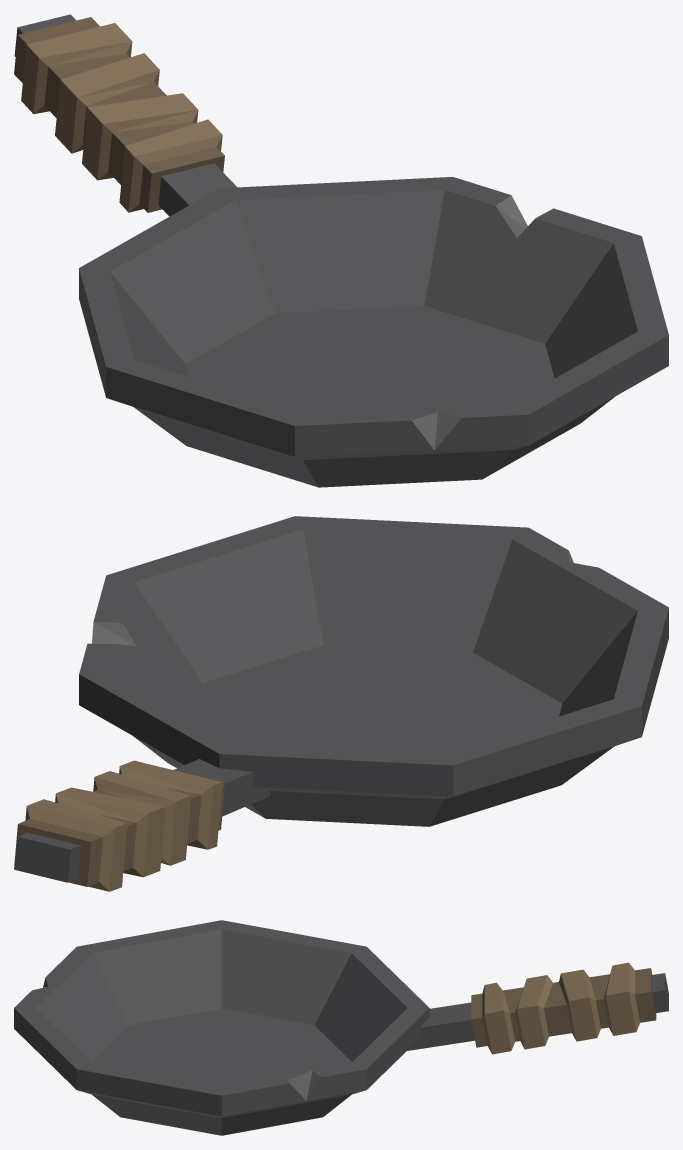
File: adventure_SM_Prop_Pot_01.gltf
The picture shows the model from 3 angles, top to bottom: view 1: azimuth 30°, elevation 25°; view 2: azimuth 150°, elevation 25°; view 3: azimuth 270°, elevation 25°; orthographic projection. The views are drawn at different scales.
Parts seen in each view (by area): view 1: SM_Prop_Pot_01; view 2: SM_Prop_Pot_01; view 3: SM_Prop_Pot_01.
Part boxes in pixels (box(x1,y1,x2,y2)): SM_Prop_Pot_01: box(14, 14, 668, 487); SM_Prop_Pot_01: box(14, 516, 668, 891); SM_Prop_Pot_01: box(14, 920, 668, 1135).
Bounding box in the file's own units: 0.3672 × 0.0949 × 0.5788.
1 material, 1 textured.
